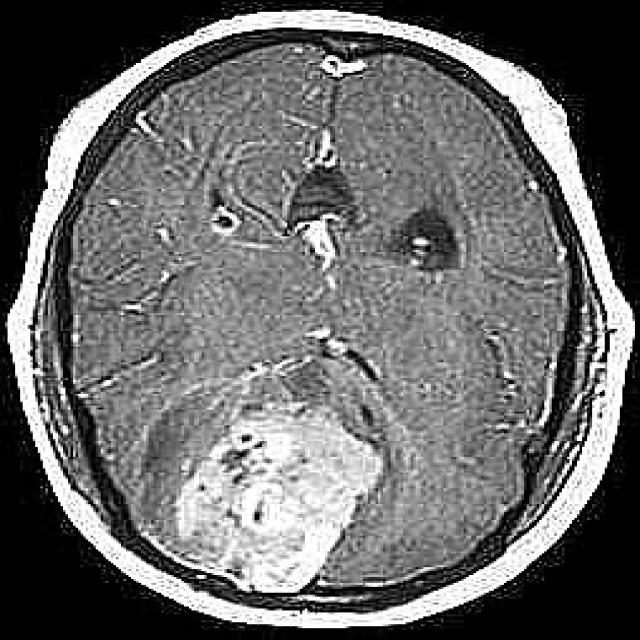Tumor-Cell: (137, 398, 371, 590)
